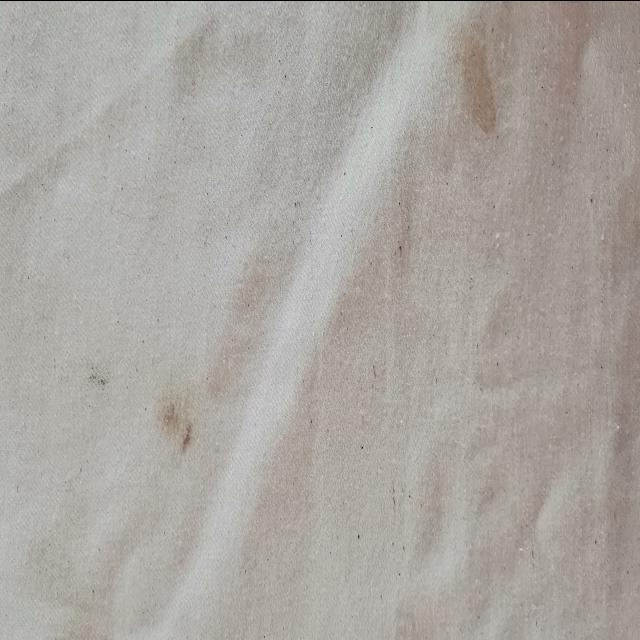taaaches: (451, 40, 508, 131), (150, 393, 210, 466)
